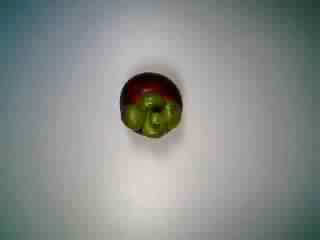mangosteen: (112, 67, 187, 140)
